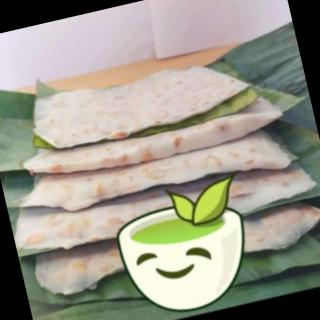Tempe: (1, 38, 304, 231)
